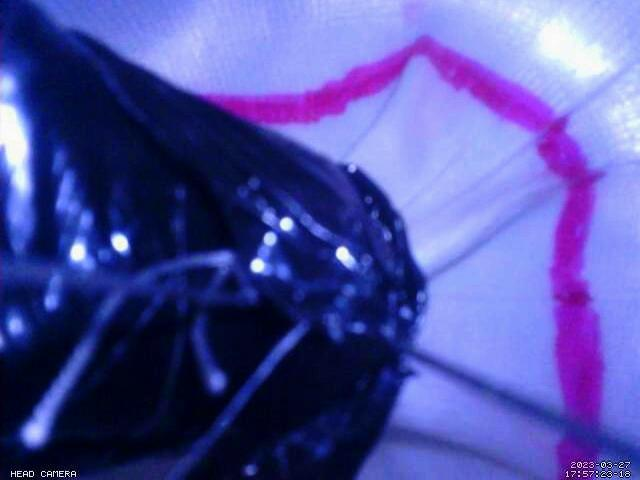red-circle: (199, 34, 605, 480)
